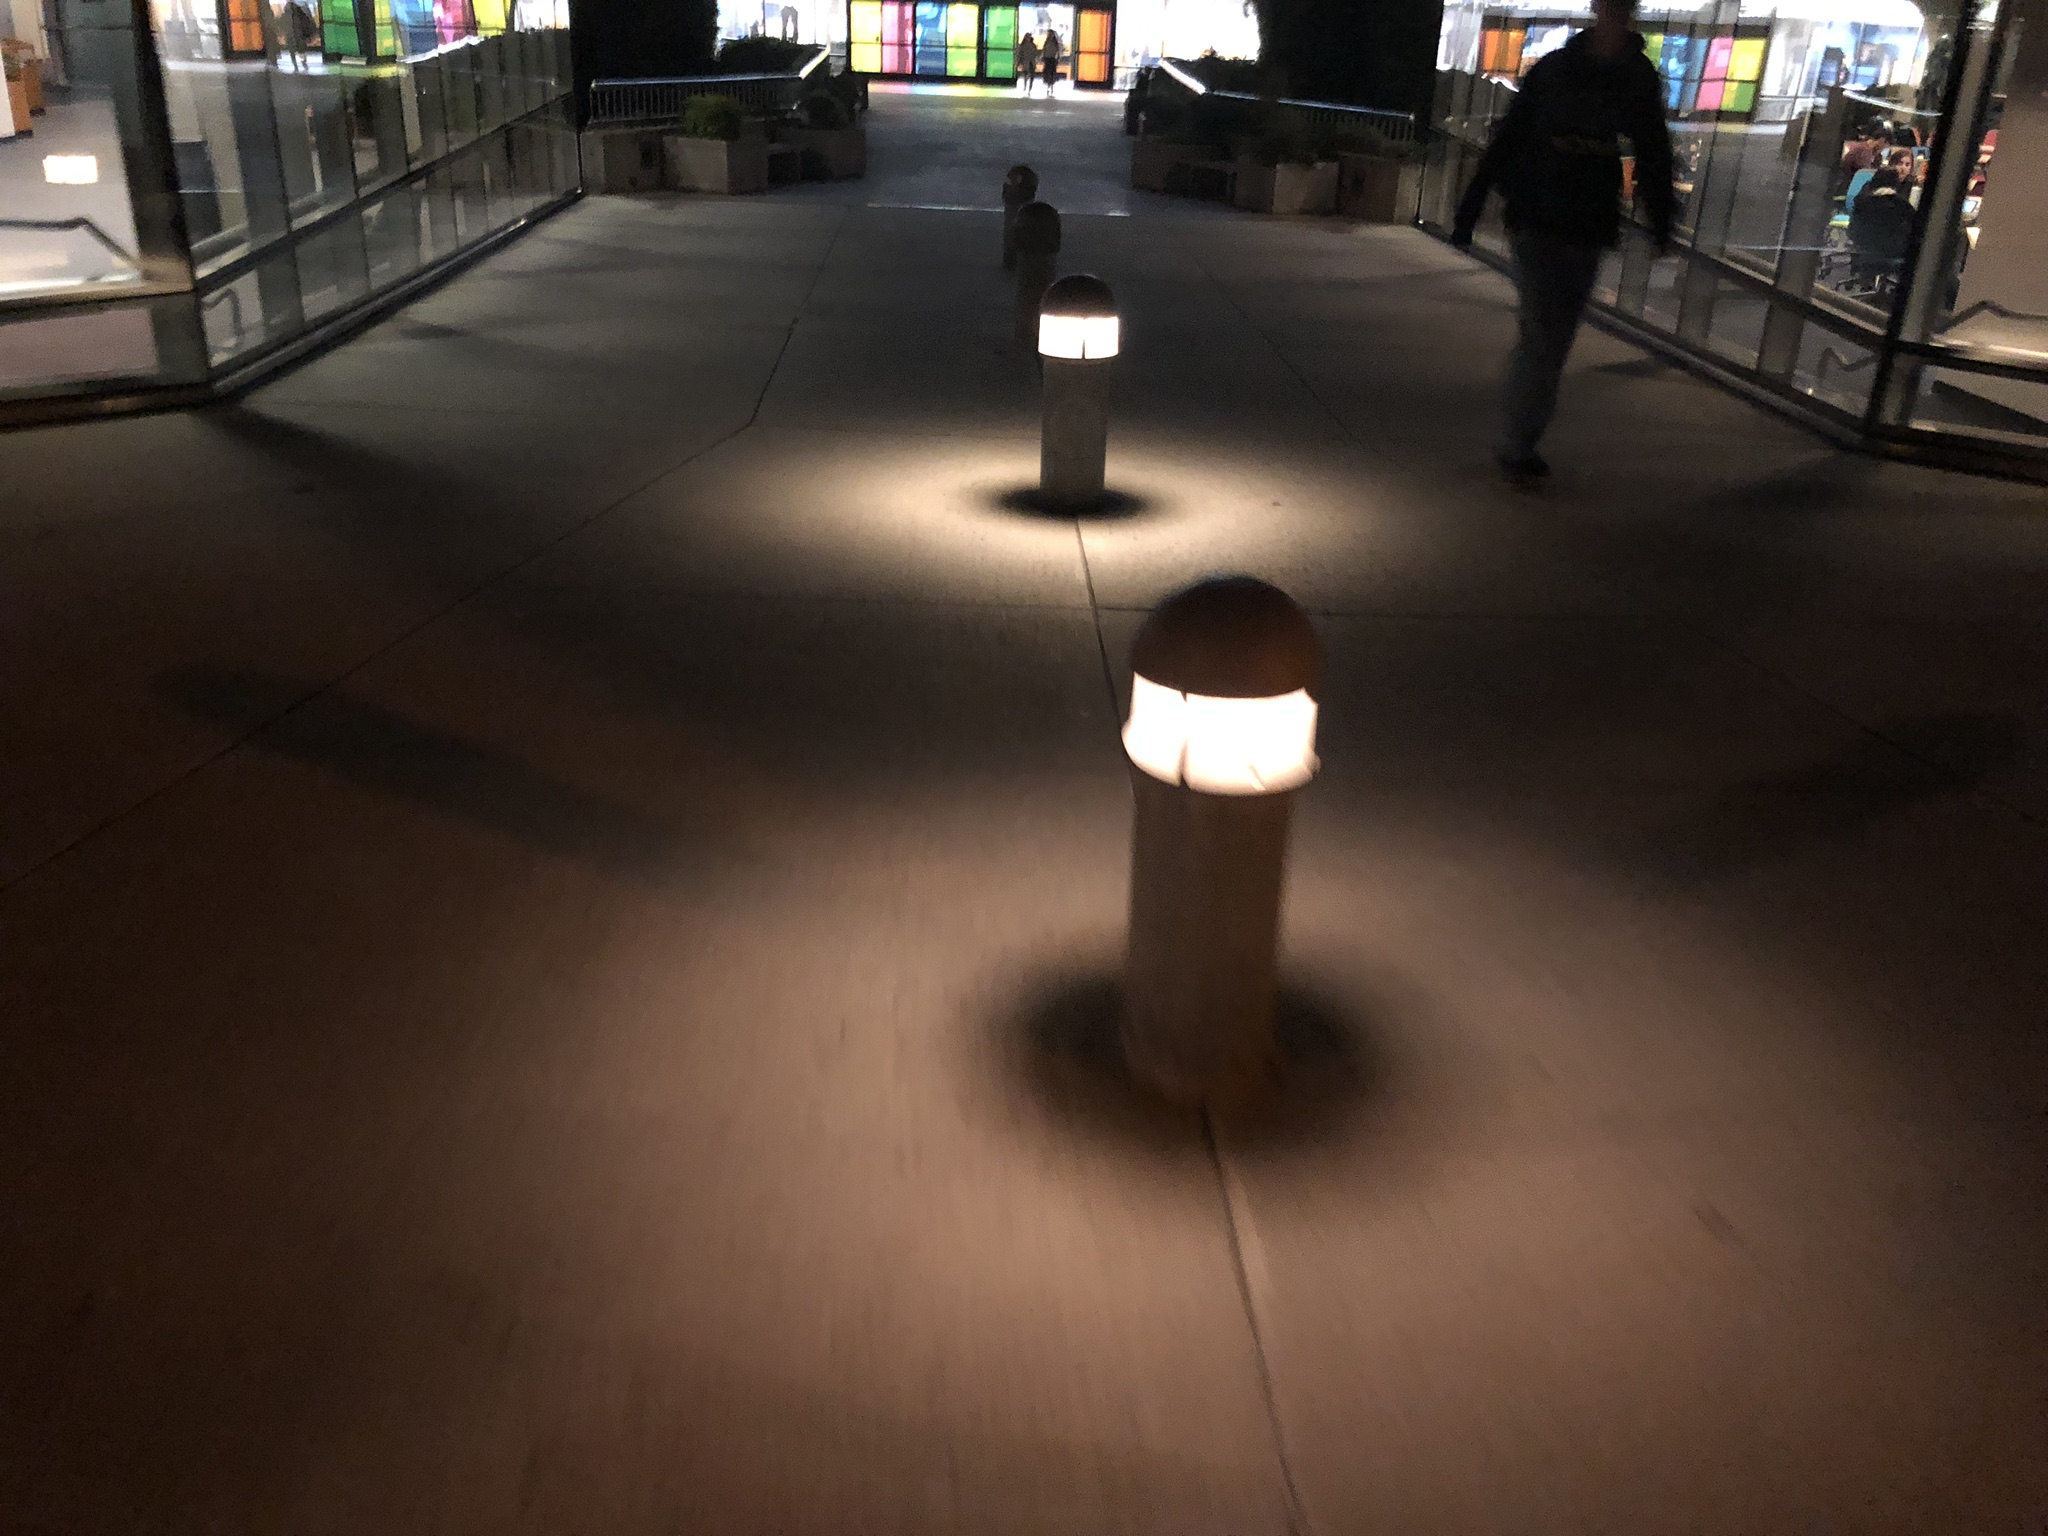Obstacle: (1100, 586, 1334, 1115), (992, 166, 1134, 518)
